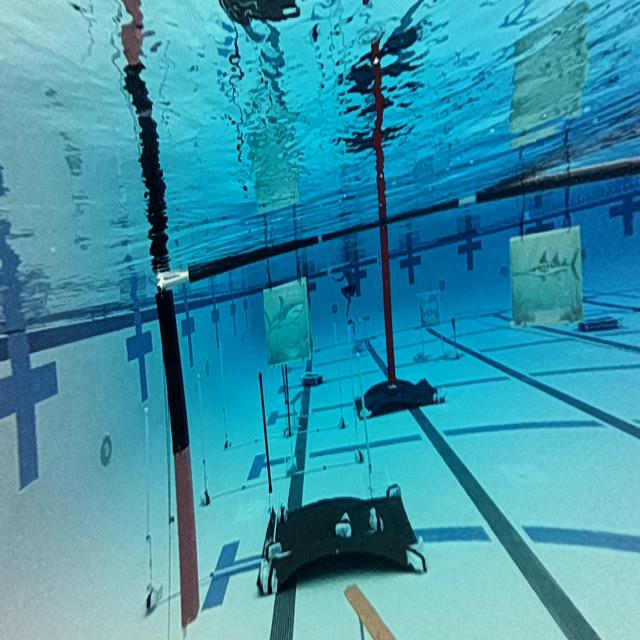pointed_nose: (507, 237, 584, 331)
round_nose: (263, 276, 312, 368)
